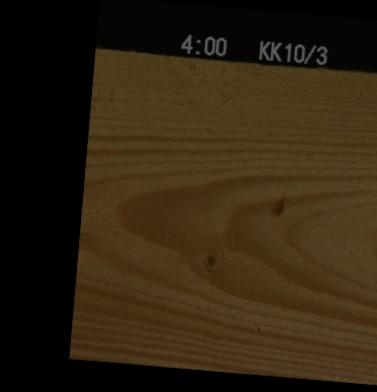sound_knot: (199, 244, 222, 271)
